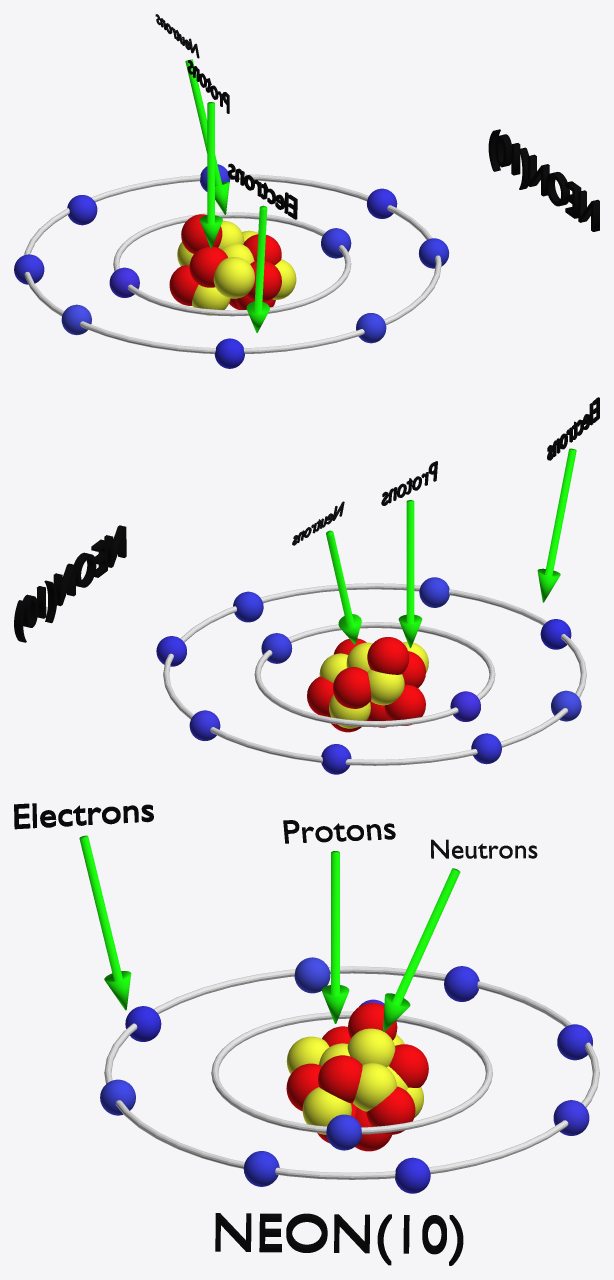
Rendered from Neon Atomic Model.gltf.
3 renders of one model, top to bottom at view 1: azimuth 30°, elevation 25°; view 2: azimuth 150°, elevation 25°; view 3: azimuth 270°, elevation 25°, orthographic. The views are drawn at different scales.
Visible parts, largest first — view 1: Torus.001, Text.003, Torus, Sphere.007, Cylinder.000, Cylinder.003, Cylinder.001, Sphere.014, Text, Sphere.015, Sphere.016, Sphere.011 (+14 smaller); view 2: Torus.001, Text.003, Torus, Cylinder.000, Cylinder.003, Sphere.017, Sphere.015, Cylinder.001, Sphere.016, Sphere.009, Text, Sphere.018 (+15 smaller); view 3: Torus.001, Text.003, Torus, Cylinder.003, Cylinder.001, Cylinder.000, Text, Sphere.001, Sphere, Sphere.003, Sphere.018, Sphere.006 (+16 smaller).
Part boxes in pixels (box(x1,y1,x2,y2)): Torus.001: box(24, 174, 441, 353); Text.003: box(488, 129, 599, 231); Torus: box(113, 212, 351, 316); Sphere.007: box(213, 257, 254, 298); Cylinder.000: box(199, 102, 222, 248); Cylinder.003: box(246, 205, 269, 332); Cylinder.001: box(185, 59, 229, 214); Sphere.014: box(189, 246, 227, 287); Text: box(227, 163, 297, 219); Sphere.015: box(181, 214, 222, 253); Sphere.016: box(169, 265, 198, 305); Sphere.011: box(246, 261, 281, 301); Torus.001: box(163, 583, 586, 765); Text.003: box(14, 525, 126, 642); Torus: box(254, 622, 495, 727); Cylinder.000: box(398, 500, 422, 648); Cylinder.003: box(537, 448, 576, 602); Sphere.017: box(333, 667, 371, 708); Sphere.015: box(367, 637, 409, 674); Cylinder.001: box(326, 530, 361, 644); Sphere.016: box(384, 684, 425, 725); Sphere.009: box(367, 669, 404, 705); Text: box(547, 397, 599, 460); Sphere.018: box(307, 676, 333, 716); Torus.001: box(104, 966, 599, 1179); Text.003: box(215, 1213, 463, 1265); Torus: box(211, 1011, 492, 1134); Cylinder.003: box(79, 835, 131, 1010); Cylinder.001: box(383, 868, 460, 1031); Cylinder.000: box(321, 851, 349, 1023); Text: box(14, 803, 153, 829); Sphere.001: box(318, 1055, 362, 1103); Sphere: box(353, 1063, 396, 1111); Sphere.003: box(347, 1028, 395, 1067); Sphere.018: box(366, 1086, 415, 1134); Sphere.006: box(302, 1087, 351, 1134).
Bounding box in the file's own units: 3.6 × 1.75 × 3.11.
